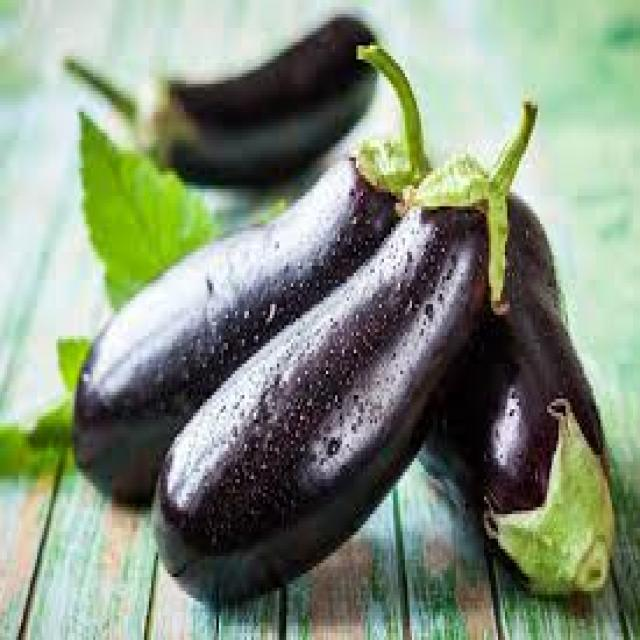food_waste: (0, 17, 612, 591)
